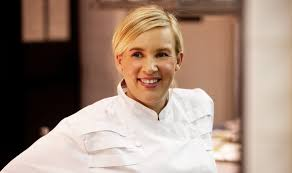middle_eastern_Female: (119, 20, 184, 107)
